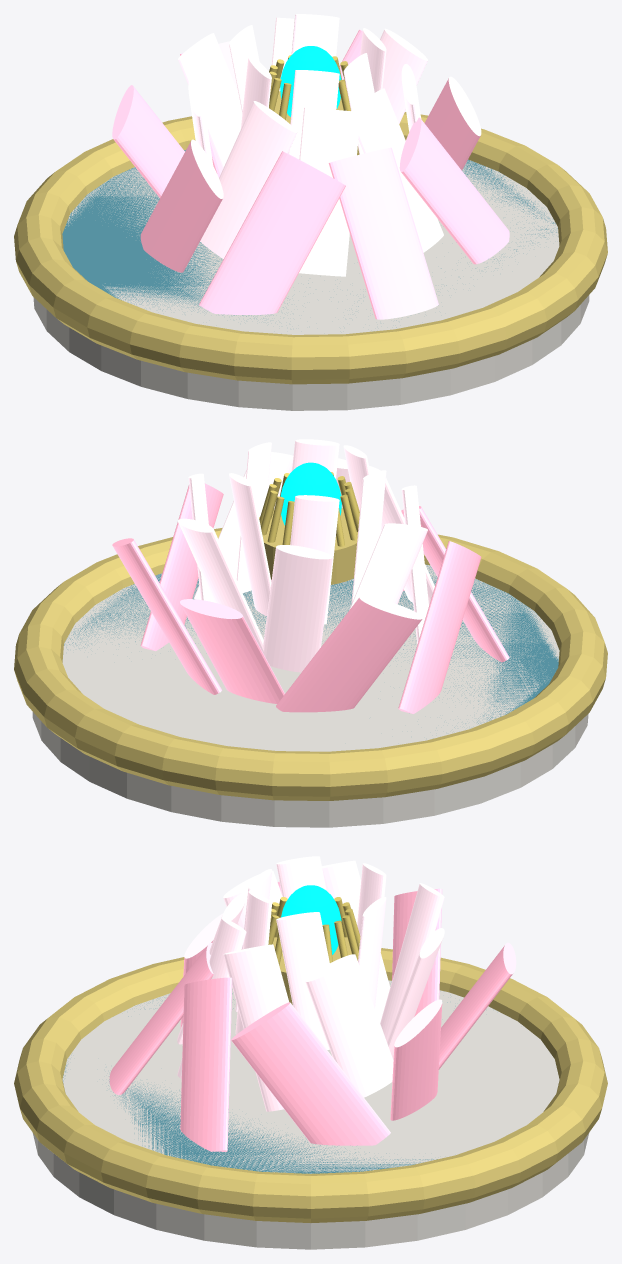
Rendered from flora_clockwork_lotus.glb.
The picture shows the model from 3 angles, top to bottom: view 1: azimuth 30°, elevation 25°; view 2: azimuth 150°, elevation 25°; view 3: azimuth 270°, elevation 25°; orthographic projection.
Visible parts, largest first — view 1: Torus, Cylinder, Cylinder.001, Cylinder.007, Cylinder.008, Cylinder.009, Cylinder.014, Cylinder.006, Cylinder.015, Cylinder.005, Cylinder.012, Cylinder.016 (+12 smaller); view 2: Cylinder, Torus, Cylinder.001, Cylinder.005, Cylinder.012, Cylinder.006, Cylinder.004, Cylinder.003, Cylinder.013, Cylinder.002, Cylinder.011, Cylinder.019 (+12 smaller); view 3: Cylinder, Torus, Cylinder.002, Cylinder.009, Cylinder.010, Cylinder.001, Cylinder.003, Cylinder.017, Cylinder.018, Cylinder.008, Cylinder.012, Cylinder.004 (+13 smaller).
Boxes of the visible parts, left/top/right/bottom form: Torus: left=14, top=112, right=607, bottom=384; Cylinder: left=33, top=150, right=589, bottom=410; Cylinder.001: left=62, top=150, right=557, bottom=327; Cylinder.007: left=199, top=151, right=345, bottom=314; Cylinder.008: left=328, top=147, right=438, bottom=319; Cylinder.009: left=399, top=117, right=509, bottom=264; Cylinder.014: left=200, top=101, right=297, bottom=258; Cylinder.006: left=140, top=139, right=223, bottom=272; Cylinder.015: left=299, top=107, right=358, bottom=276; Cylinder.005: left=112, top=85, right=184, bottom=197; Cylinder.012: left=178, top=33, right=242, bottom=169; Cylinder.016: left=351, top=88, right=443, bottom=252; Cylinder: left=32, top=564, right=588, bottom=827; Torus: left=14, top=528, right=607, bottom=800; Cylinder.001: left=64, top=564, right=558, bottom=727; Cylinder.005: left=276, top=596, right=422, bottom=712; Cylinder.012: left=263, top=545, right=332, bottom=672; Cylinder.006: left=398, top=541, right=481, bottom=713; Cylinder.004: left=180, top=599, right=284, bottom=703; Cylinder.003: left=112, top=538, right=221, bottom=694; Cylinder.013: left=349, top=523, right=427, bottom=610; Cylinder.002: left=140, top=483, right=223, bottom=651; Cylinder.011: left=178, top=518, right=264, bottom=654; Cylinder.019: left=229, top=473, right=271, bottom=616; Cylinder: left=33, top=980, right=588, bottom=1249; Torus: left=14, top=948, right=607, bottom=1222; Cylinder.002: left=231, top=1002, right=390, bottom=1145; Cylinder.009: left=180, top=977, right=232, bottom=1151; Cylinder.010: left=305, top=954, right=393, bottom=1097; Cylinder.001: left=63, top=993, right=493, bottom=1173; Cylinder.003: left=390, top=999, right=442, bottom=1120; Cylinder.017: left=223, top=944, right=288, bottom=1111; Cylinder.018: left=276, top=912, right=329, bottom=1049; Cylinder.008: left=109, top=942, right=213, bottom=1094; Cylinder.012: left=380, top=883, right=444, bottom=1041; Cylinder.004: left=438, top=942, right=516, bottom=1069.
Size of the model in its own units: 2.88 by 1.32 by 2.88.
